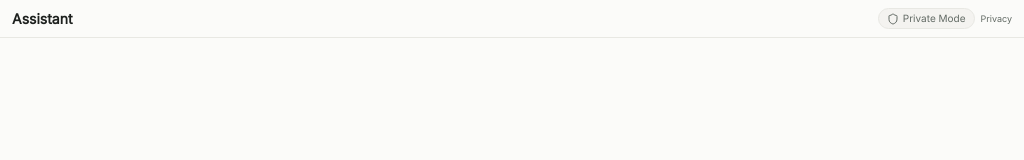
it: ChatHeader › toggles consent on button click
What coordinates should you click on to do the following:
click the button "Private Mode"
I would click on:
 (926, 18)
Its box is x1=878 y1=8 x2=974 y2=29.
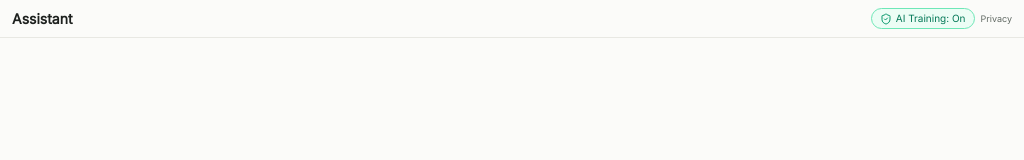
Now the text "AI Training: On" is shown, box x1=896 y1=11 x2=966 y2=26
